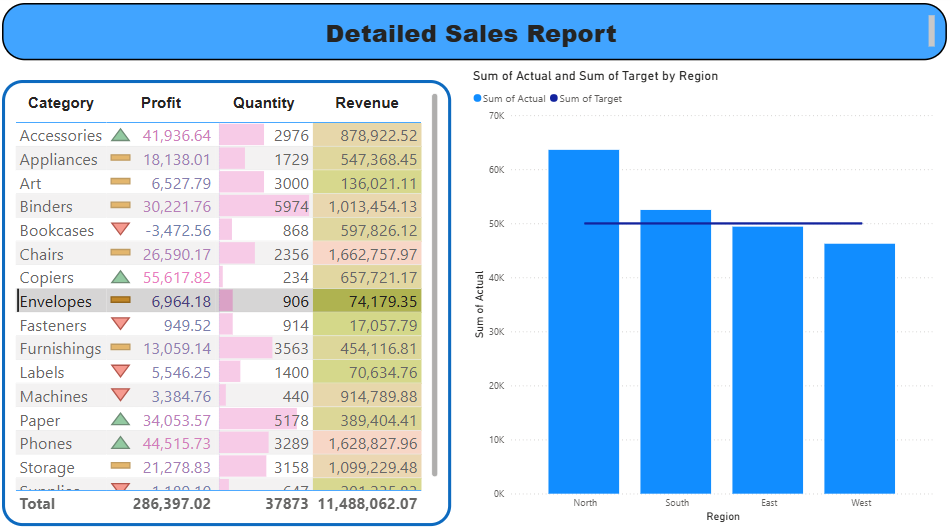

This screenshot's page, from the dashboard's own definition file:
{"tool":"powerbi","page":{"name":"Detailed Sales ","canvas":[1280,720],"ordinal":1},"visuals":[{"type":"textbox","box":[10.1,0,1254.2,72],"z":0},{"type":"tableEx","fields":{"Values":["Orders.Sub-Category","Sum(Orders.Profit)","Sum(Orders.Quantity)","Sum(Orders.Revenue)"]},"box":[27.4,85,587.5,610.6],"z":1000},{"type":"lineStackedColumnComboChart","fields":{"Category":["Sheet1.Region"],"Y":["Sum(Sheet1.Actual)"],"Y2":["Sum(Sheet1.Target)"]},"box":[639.4,95,614.9,600.5],"z":2000}]}

Visuals, with their boxes in screenshot pixels (x1, y1, x2, y2), scaled from the page's 1280x720 canvas onto the 951x531 screenshot:
textbox: <bbox>8, 0, 939, 53</bbox>
tableEx - Orders.Sub-Category x Sum(Orders.Profit): <bbox>20, 63, 457, 513</bbox>
lineStackedColumnComboChart - Sheet1.Region x Sum(Sheet1.Actual): <bbox>475, 70, 932, 513</bbox>
